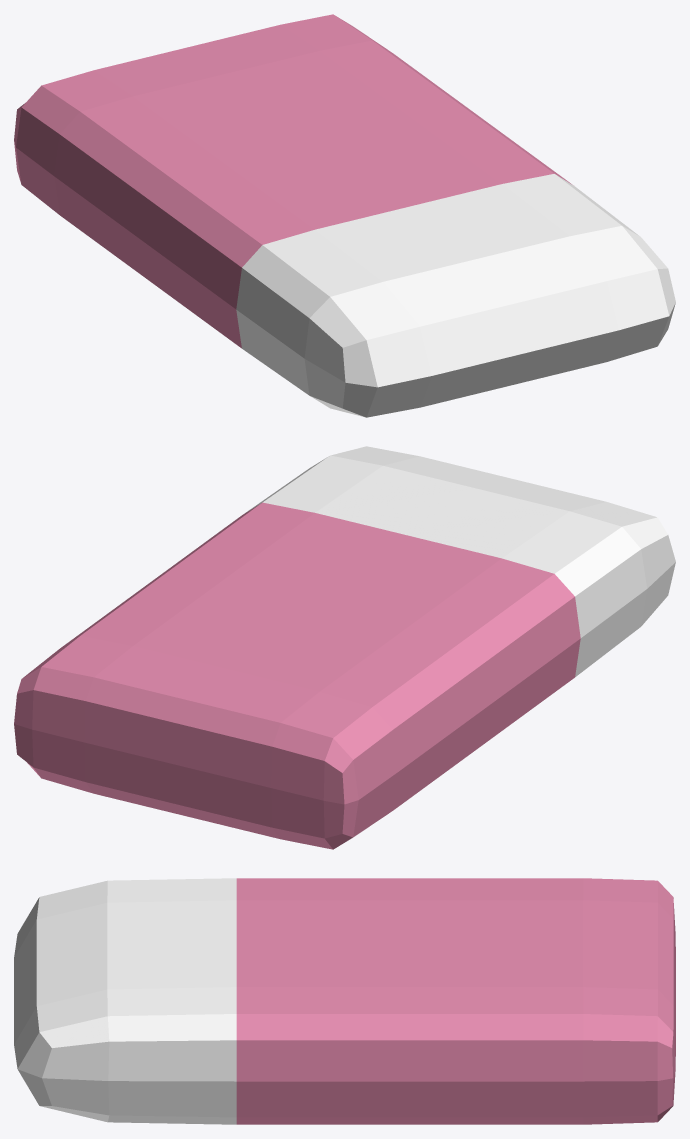
Rendered from Bed.fbx.
3 renders of one model, top to bottom at view 1: azimuth 30°, elevation 25°; view 2: azimuth 150°, elevation 25°; view 3: azimuth 270°, elevation 25°, orthographic. The views are drawn at different scales.
Parts seen in each view (by area): view 1: Bed; view 2: Bed; view 3: Bed.
Boxes of the visible parts, x1=… form: Bed: x1=14, y1=14, x2=675, y2=417; Bed: x1=14, y1=446, x2=675, y2=849; Bed: x1=14, y1=878, x2=675, y2=1124.
Size of the model in its own units: 415 by 140 by 726.
